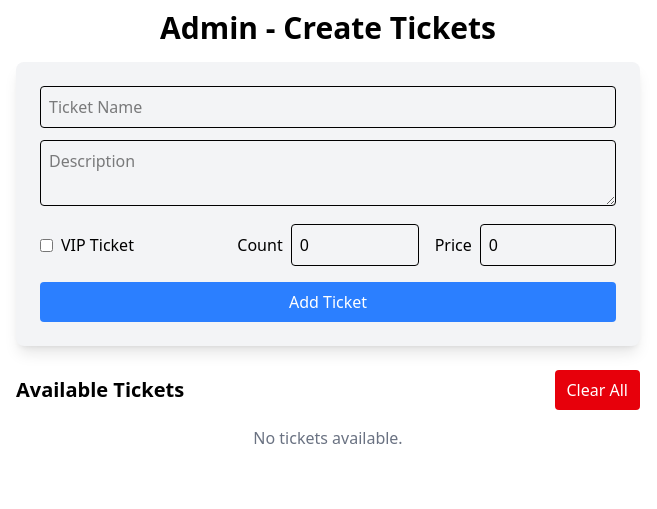
admin.vue › adds a ticket when the form is submitted
Type "Concert Ticket" into the field with placeholder "Ticket Name".
click(328, 107); type("Concert Ticket")  # box [40,86,616,128]
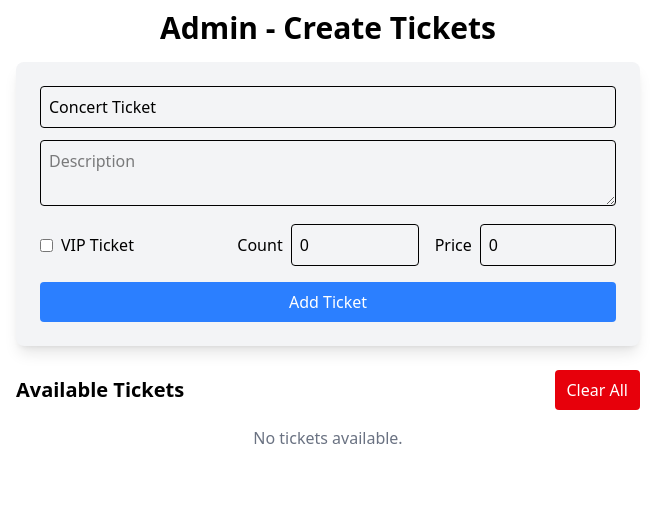
Replace the text in the number field with placeholder "Available Count" next to "Count" with "10" at (355, 245), box [291,224,419,266]
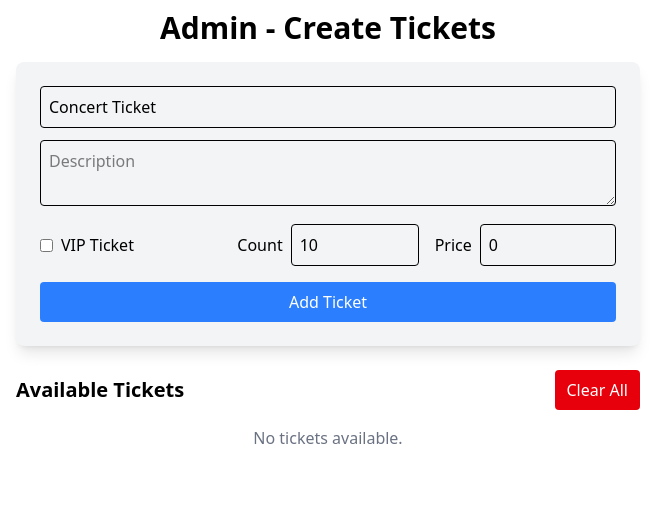
Replace the text in the number field with placeholder "Price" next to "Price" with "50" at (548, 245), box [480,224,616,266]
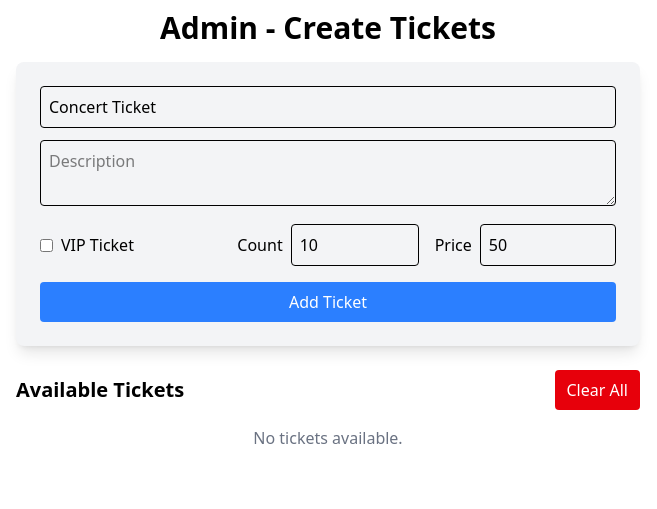
Submit the form from the submit button, box [40,282,616,322]
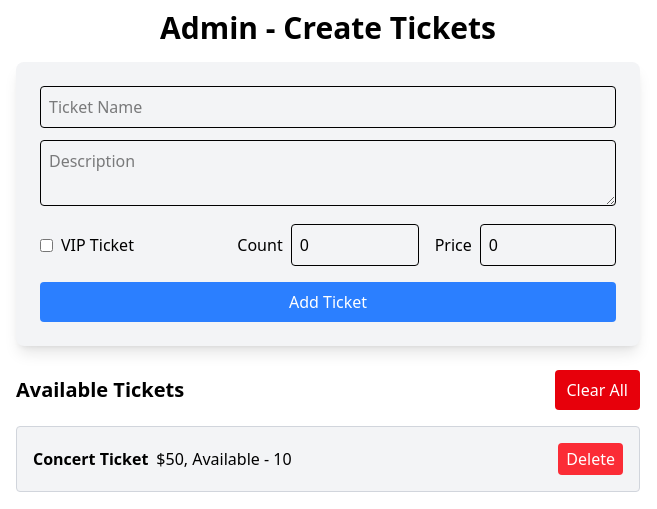
expect the text "Concert Ticket" is shown: met, box [33,447,148,471]
